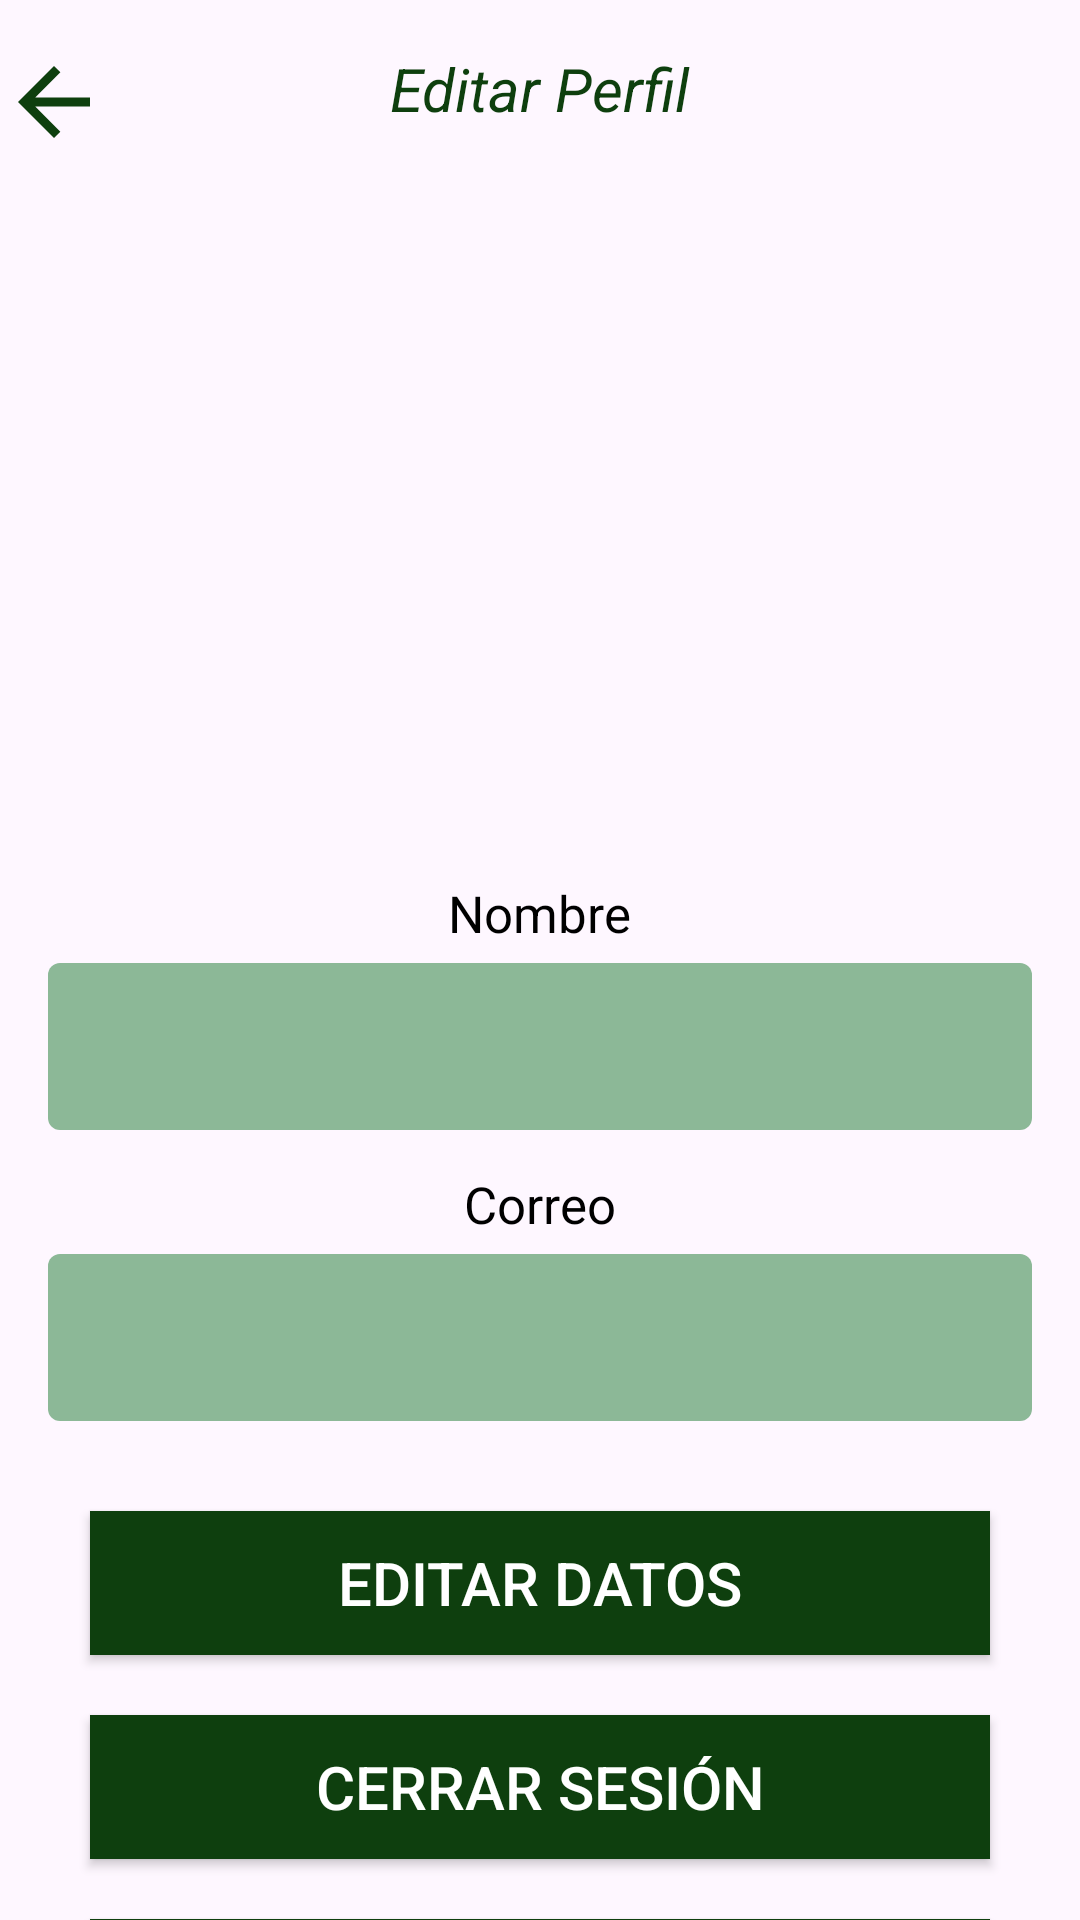

Icons on this 1080x1920 Android screen, each with its box as (x1, y1, x2, y2):
arrow back: (18, 66, 90, 138)
